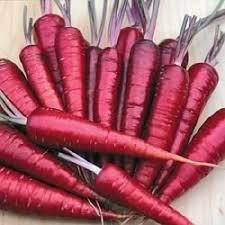Organic: (1, 6, 225, 225)
